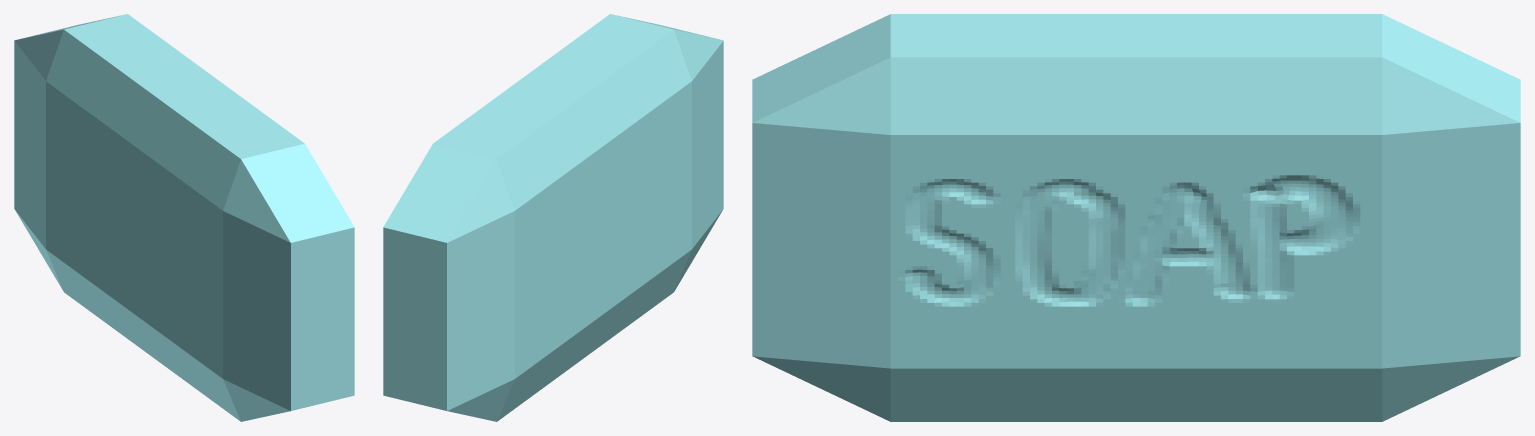
The model's file is Soap.fbx.
The picture shows the model from 3 angles, left to right: view 1: azimuth 30°, elevation 25°; view 2: azimuth 150°, elevation 25°; view 3: azimuth 270°, elevation 25°; orthographic projection. The views are drawn at different scales.
Visible parts, largest first — view 1: Cube; view 2: Cube; view 3: Cube.
Boxes of the visible parts, x1=… form: Cube: x1=14, y1=14, x2=354, y2=421; Cube: x1=383, y1=14, x2=723, y2=421; Cube: x1=752, y1=14, x2=1520, y2=421.
Bounding box in the file's own units: 79.56 × 200 × 382.
